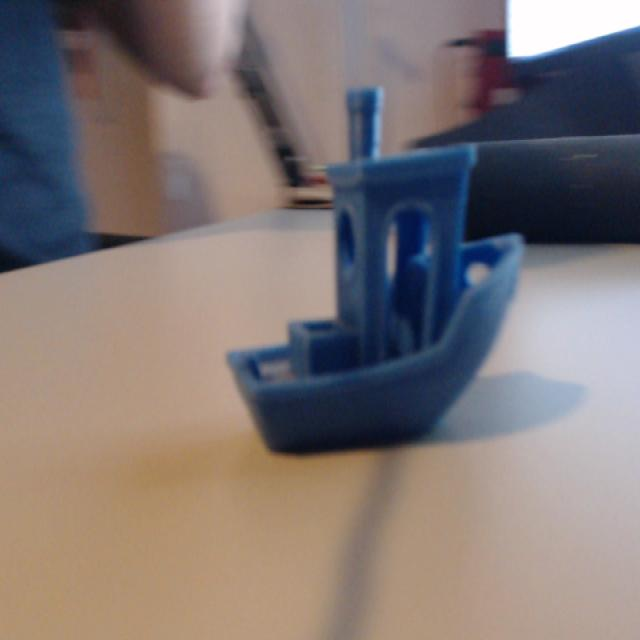benchy: (224, 82, 525, 454)
